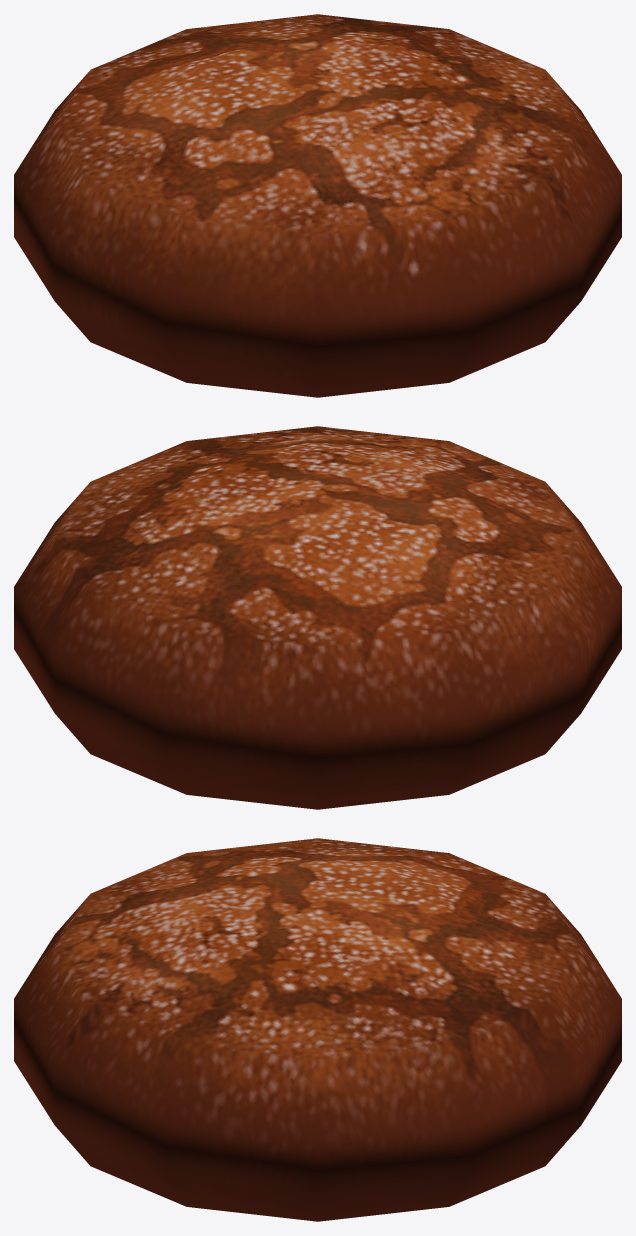
File: 010-Cookies_02.FBX
3 views of the same model, one above another, from view 1: azimuth 30°, elevation 25°; view 2: azimuth 150°, elevation 25°; view 3: azimuth 270°, elevation 25° (orthographic).
Visible parts, largest first — view 1: 010-Cookies_02; view 2: 010-Cookies_02; view 3: 010-Cookies_02.
Boxes of the visible parts, bbox=[...] form: 010-Cookies_02: bbox=[14, 14, 621, 397]; 010-Cookies_02: bbox=[14, 426, 621, 809]; 010-Cookies_02: bbox=[14, 838, 621, 1221].
Bounding box in the file's own units: 16.04 × 6.18 × 16.04.
